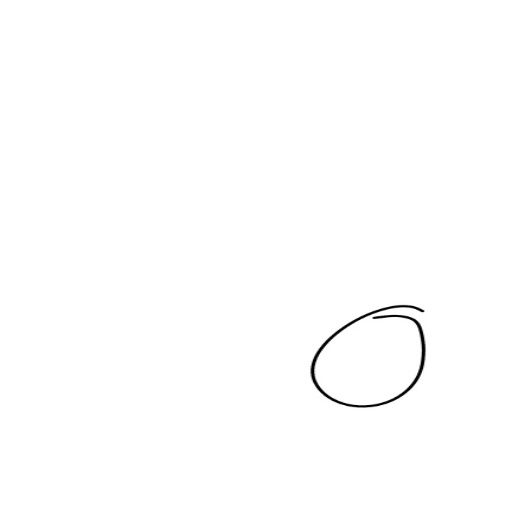circle: (302, 296, 439, 411)
